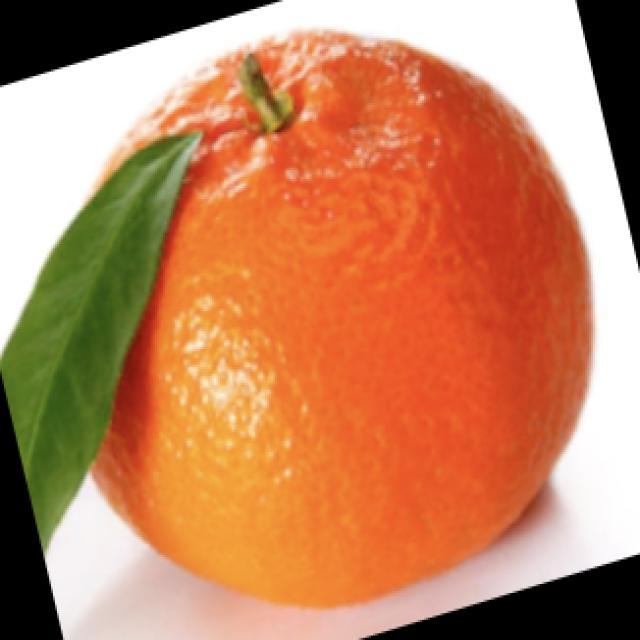matang: (93, 32, 592, 605)
